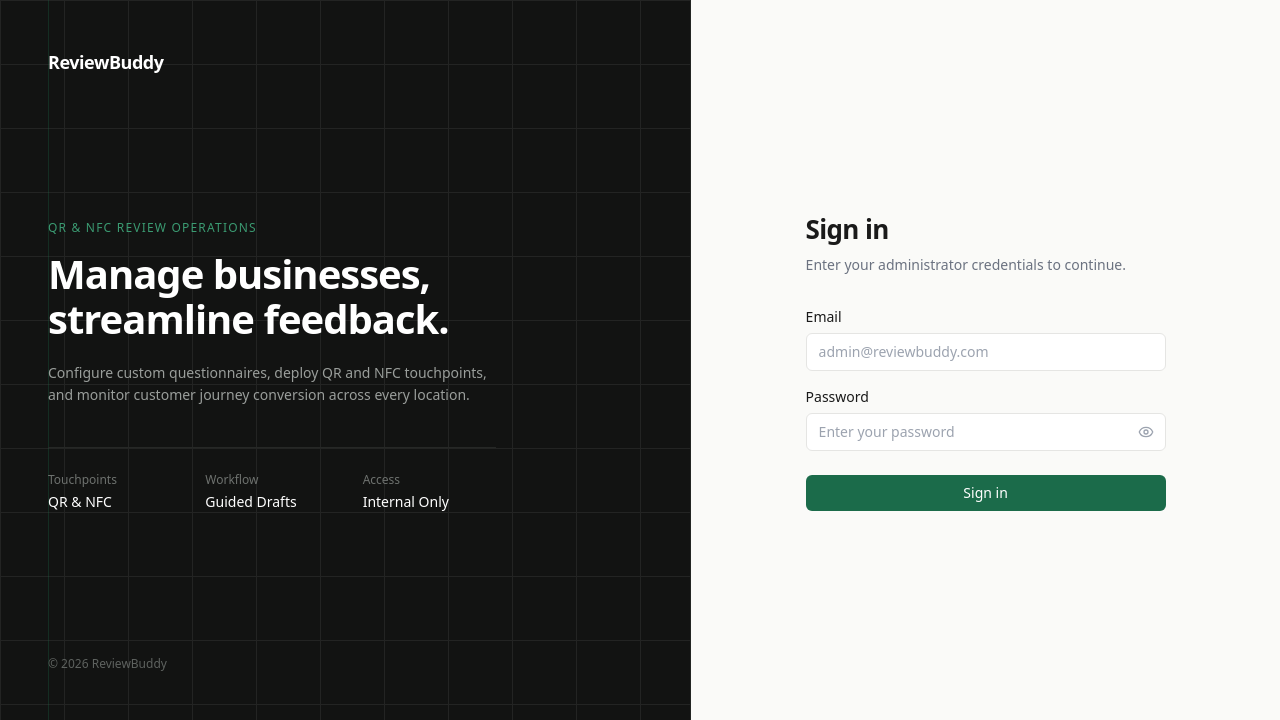
Scenario: ReviewBuddy Frontend V1 Regression Tests › 1. LoginPage validates empty credentials and omits non-functional controls
Later steps or results of the test are not shown.
Click the button "Sign in": (986, 492) [806,474,1166,510]
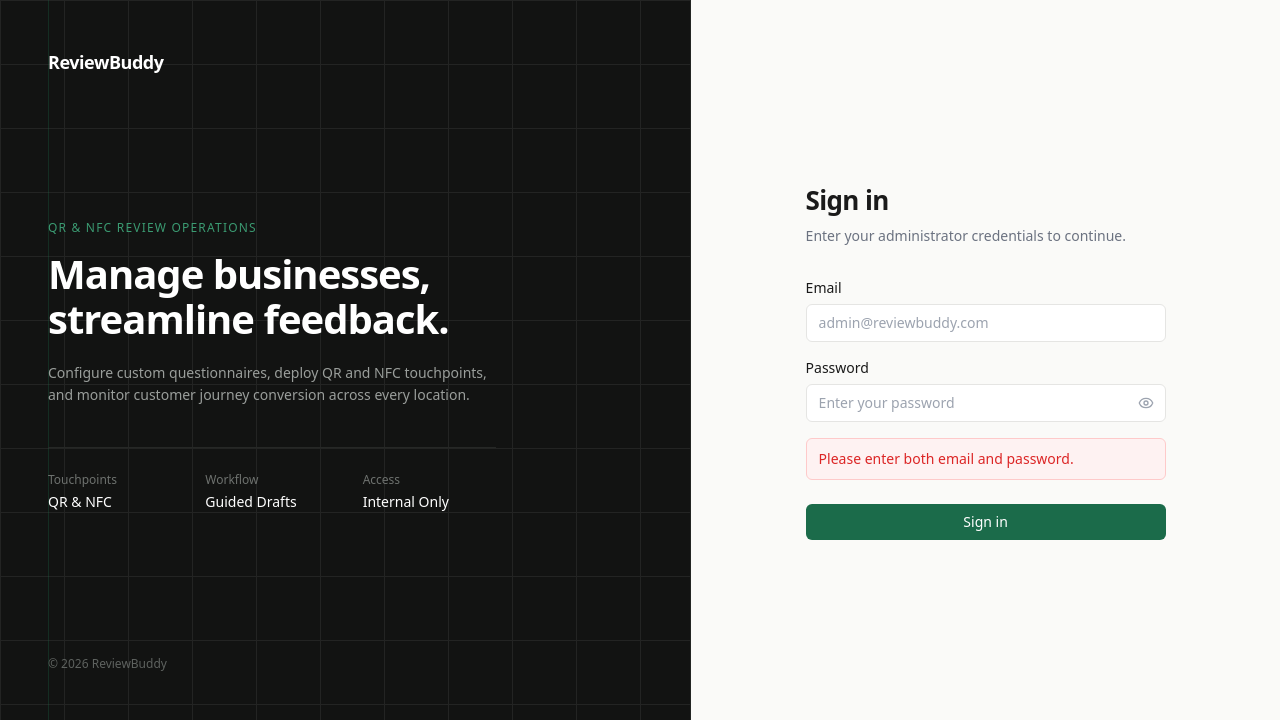
expect the message shows "enter both email and password": met, box [819,448,1074,468]
